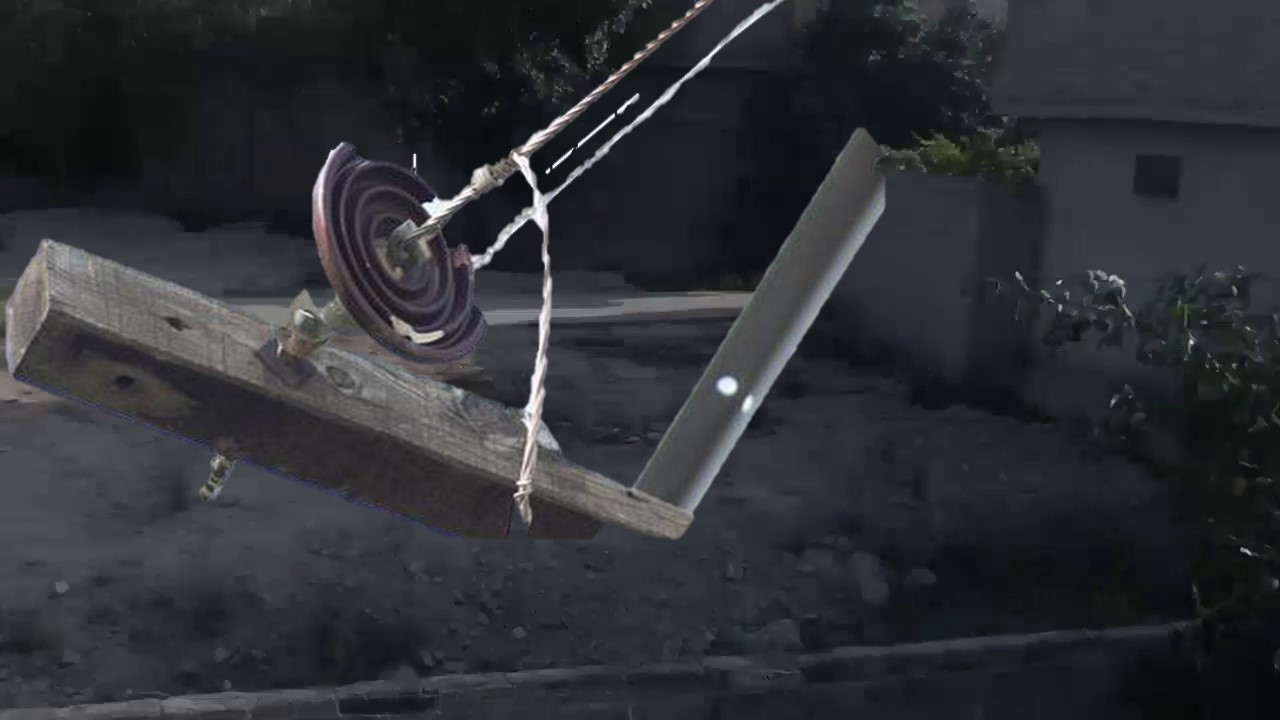defect_disc: (299, 127, 497, 368)
